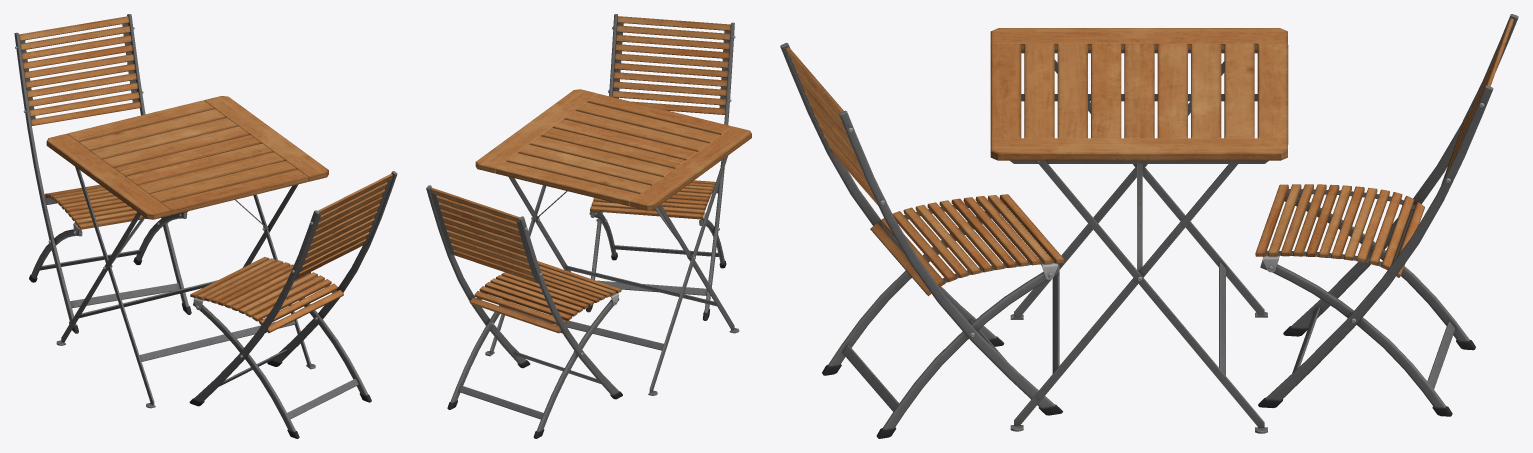
The model's file is folding-bistro-table-and-chairs.glb.
The picture shows the model from 3 angles, left to right: view 1: azimuth 30°, elevation 25°; view 2: azimuth 150°, elevation 25°; view 3: azimuth 270°, elevation 25°; orthographic projection. The views are drawn at different scales.
Parts seen in each view (by area): view 1: outdoor_table_chair_set_01_table, outdoor_table_chair_set_01_chair_02, outdoor_table_chair_set_01_chair_01; view 2: outdoor_table_chair_set_01_table, outdoor_table_chair_set_01_chair_02, outdoor_table_chair_set_01_chair_01; view 3: outdoor_table_chair_set_01_table, outdoor_table_chair_set_01_chair_01, outdoor_table_chair_set_01_chair_02.
Boxes of the visible parts, bbox=[...] form: outdoor_table_chair_set_01_table: bbox=[46, 96, 328, 408]; outdoor_table_chair_set_01_chair_02: bbox=[14, 14, 191, 333]; outdoor_table_chair_set_01_chair_01: bbox=[189, 171, 397, 438]; outdoor_table_chair_set_01_table: bbox=[475, 89, 751, 395]; outdoor_table_chair_set_01_chair_02: bbox=[426, 185, 622, 438]; outdoor_table_chair_set_01_chair_01: bbox=[586, 14, 735, 320]; outdoor_table_chair_set_01_table: bbox=[990, 28, 1288, 433]; outdoor_table_chair_set_01_chair_01: bbox=[780, 42, 1064, 438]; outdoor_table_chair_set_01_chair_02: bbox=[1255, 14, 1518, 416].
Size of the model in its own units: 0.7417 by 0.8586 by 1.72.
2 materials, 2 textured.
